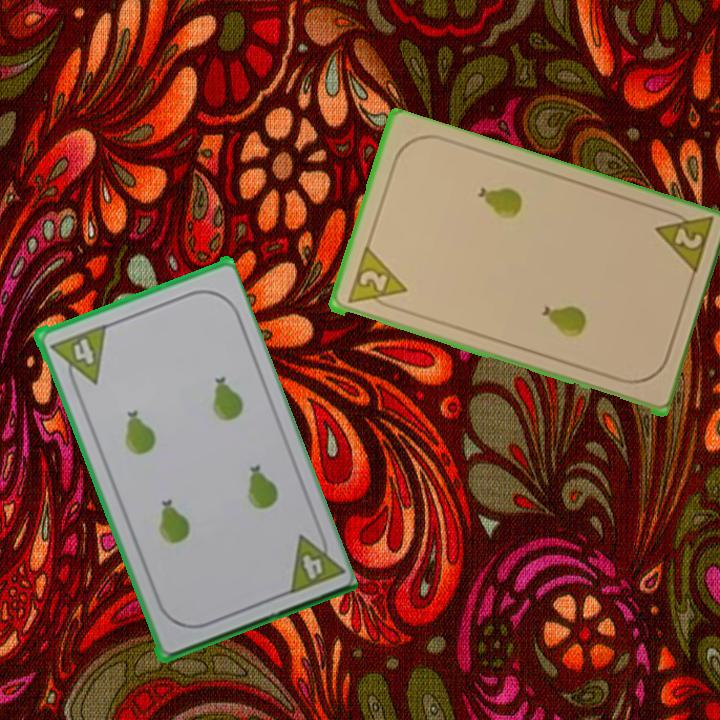2p: (650, 205, 716, 280), (343, 245, 409, 312)
4p: (281, 523, 345, 597), (45, 321, 109, 392)
